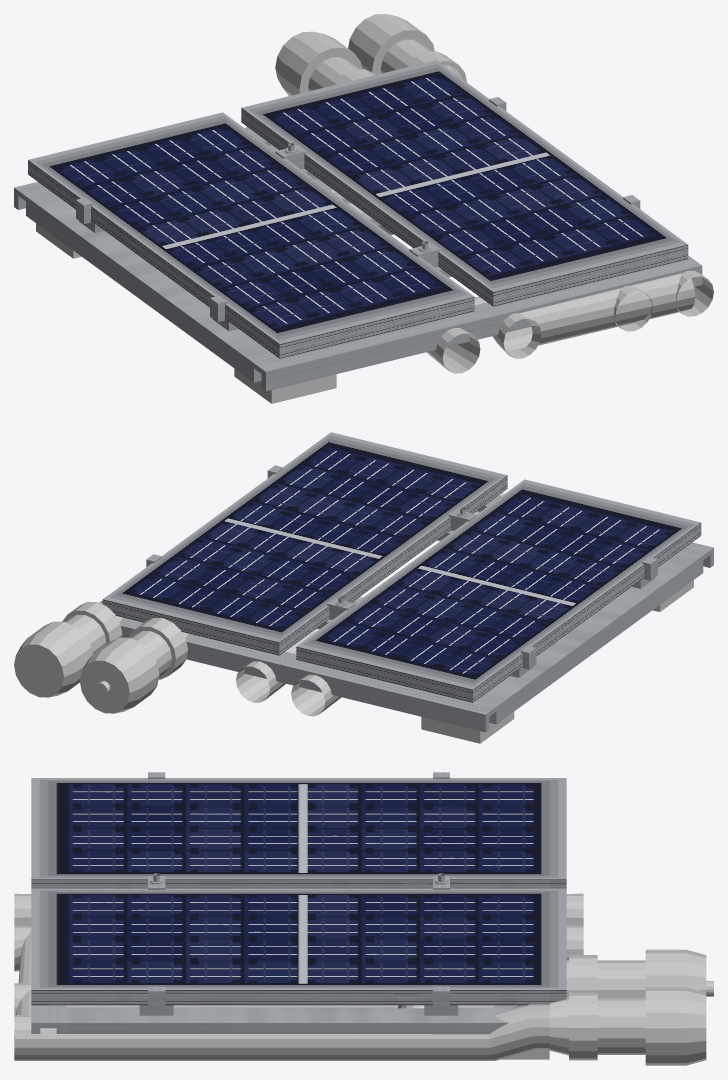
File: pv_flat.obj
3 views of the same model, one above another, from view 1: azimuth 30°, elevation 25°; view 2: azimuth 150°, elevation 25°; view 3: azimuth 270°, elevation 25° (orthographic). The views are drawn at different scales.
Visible parts, largest first — view 1: modules, frame, harness_entry_south, harness_input, ballast, harness; view 2: modules, frame, harness_input, harness_entry_north, ballast; view 3: modules, harness_input, frame, harness, harness_entry_south, harness_entry_north.
Boxes of the visible parts, <box> form: modules: <box>28,60,688,358</box>; frame: <box>14,129,702,391</box>; harness_entry_south: <box>426,273,695,373</box>; harness_input: <box>275,14,466,95</box>; ballast: <box>36,223,336,403</box>; harness: <box>614,270,713,331</box>; modules: <box>102,432,701,702</box>; frame: <box>120,495,713,732</box>; harness_input: <box>14,600,188,713</box>; harness_entry_north: <box>236,596,362,716</box>; ballast: <box>421,580,693,743</box>; modules: <box>31,772,566,1010</box>; harness_input: <box>344,949,713,1065</box>; frame: <box>31,1005,512,1034</box>; harness: <box>14,983,355,1060</box>; harness_entry_south: <box>14,893,31,1038</box>; harness_entry_north: <box>356,893,583,1060</box>.
Size of the model in its own units: 0.9888 by 0.153 by 1.23.
